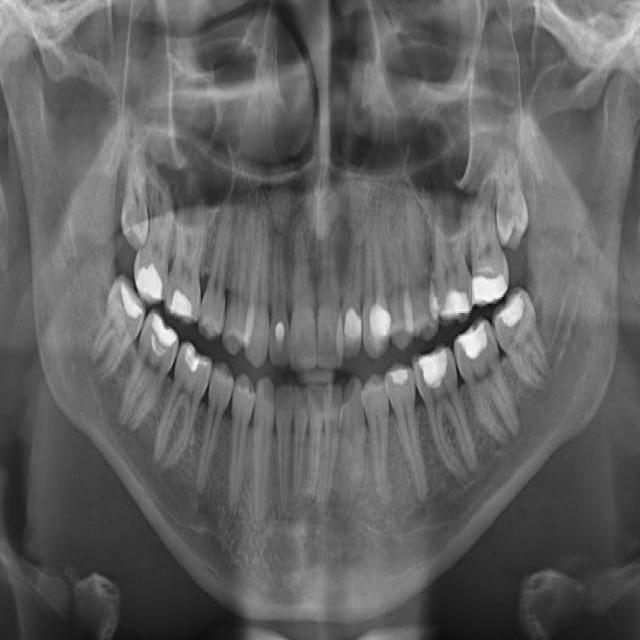dolgu: (411, 329, 458, 405), (138, 305, 184, 370), (428, 264, 473, 323), (456, 318, 497, 381), (468, 248, 511, 306), (356, 290, 393, 352), (131, 245, 167, 308), (108, 276, 144, 328), (495, 289, 531, 341), (177, 333, 211, 384), (166, 278, 200, 326), (265, 301, 293, 357), (382, 355, 413, 403), (341, 288, 362, 358)
